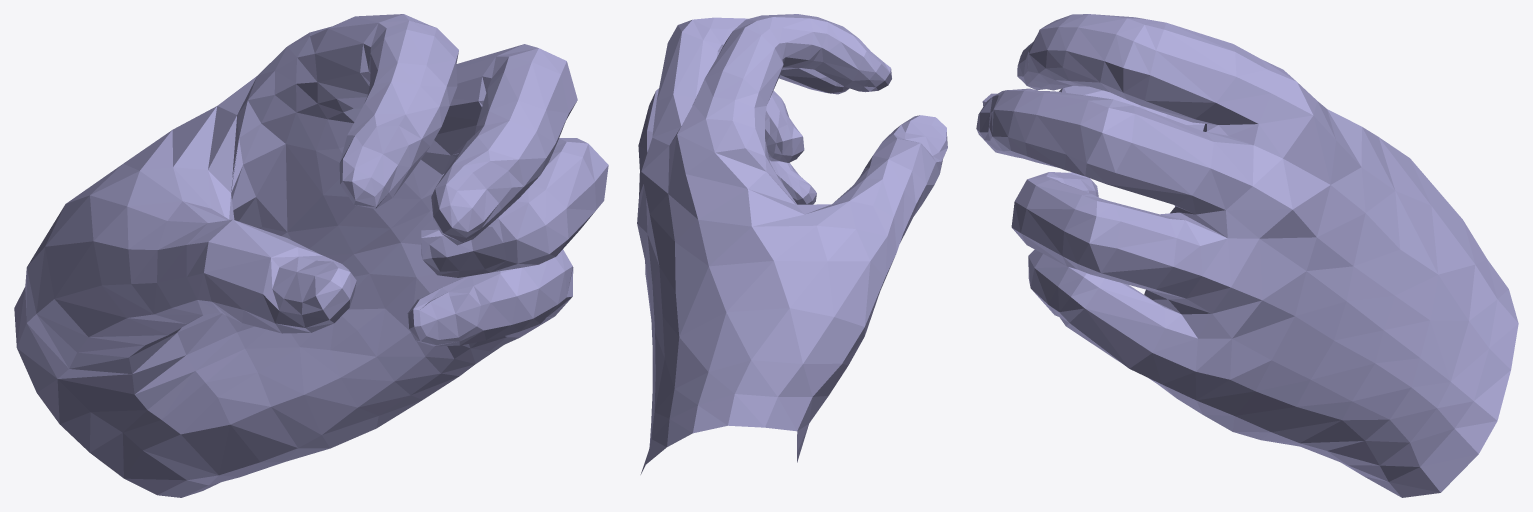
Rendered from hand_0136.glb.
The picture shows the model from 3 angles, left to right: view 1: azimuth 30°, elevation 25°; view 2: azimuth 150°, elevation 25°; view 3: azimuth 270°, elevation 25°; orthographic projection. The views are drawn at different scales.
Parts seen in each view (by area): view 1: world; view 2: world; view 3: world.
Part boxes in pixels (x1,y1,x2,y2): world: (14,14,608,497); world: (637,14,947,474); world: (976,14,1518,497).
Size of the model in its own units: 0.0998 by 0.1249 by 0.1247.
